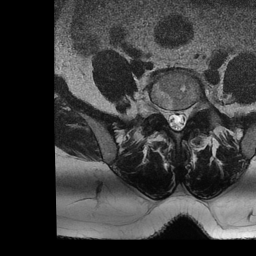CCS_normal: (173, 101, 180, 136)
LFS_normal: (188, 96, 196, 122)
LLS_normal: (180, 100, 187, 133)
RFS_normal: (157, 97, 165, 122)
RLS_normal: (165, 103, 173, 132)
